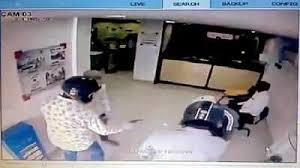weapon: (126, 117, 145, 126)
